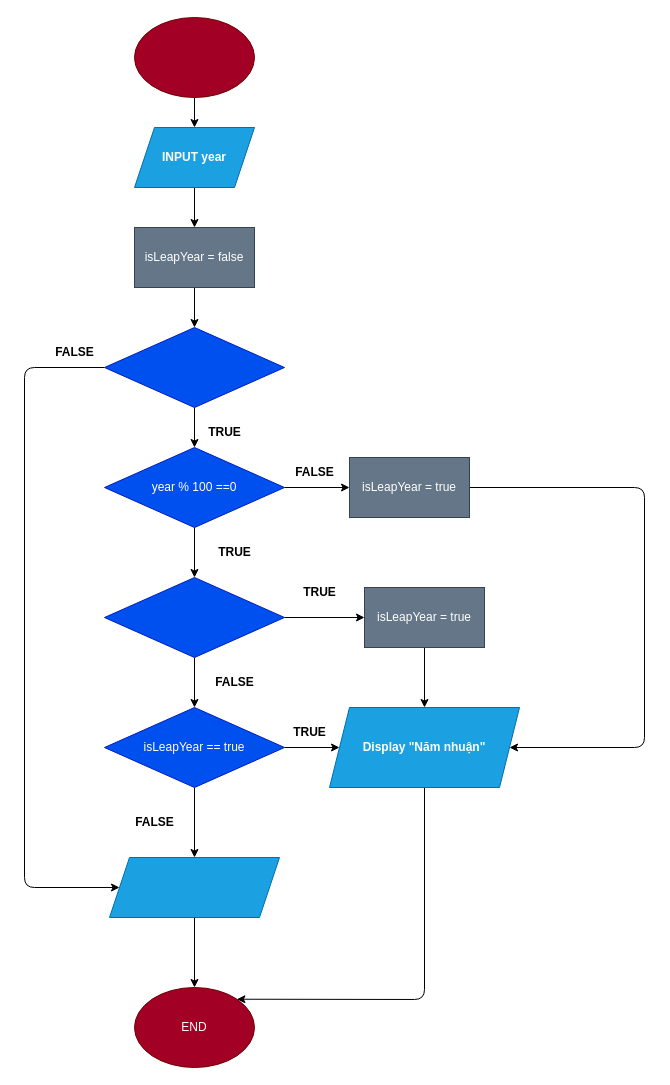
Image size: 670x1085. Some labels were removed from this diagram. Here are the shapes that lost their labels. From the top down, the centre of each, then its label:
pixel 194 57: START
pixel 194 367: year % 4 ==0
pixel 194 617: year % 400 == 0
pixel 194 887: Display "Ko Năm nhuận"
